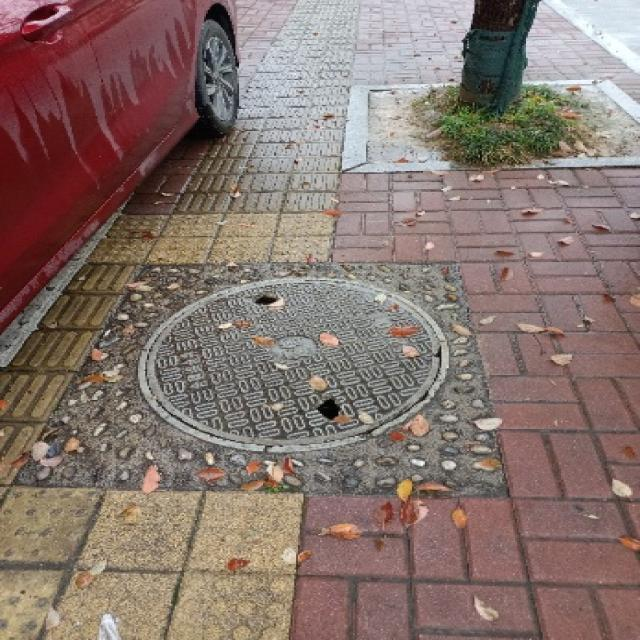Good: (123, 274, 489, 466)
